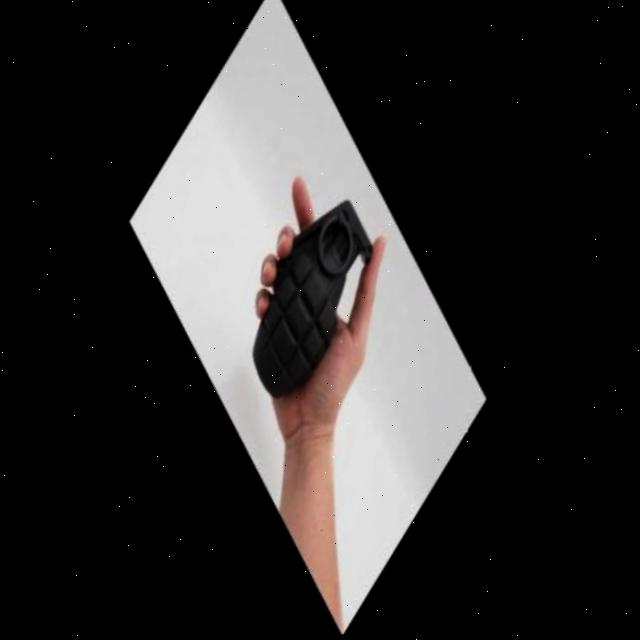grenade: (197, 163, 432, 447)
